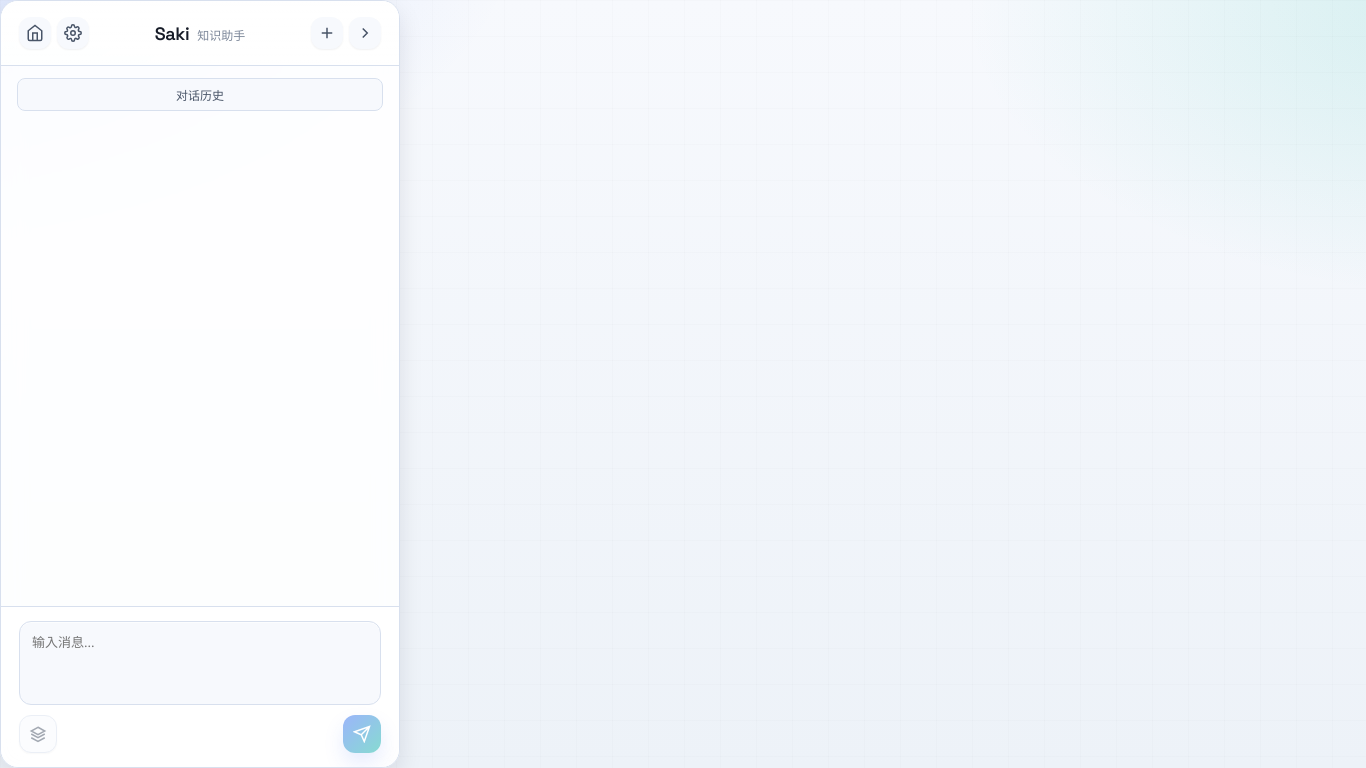
Test: ChatPanel › should enable send button when input has text
Type "Hello" into the text box with class "chat-input__textarea" at (200, 663), box [19,621,381,705]
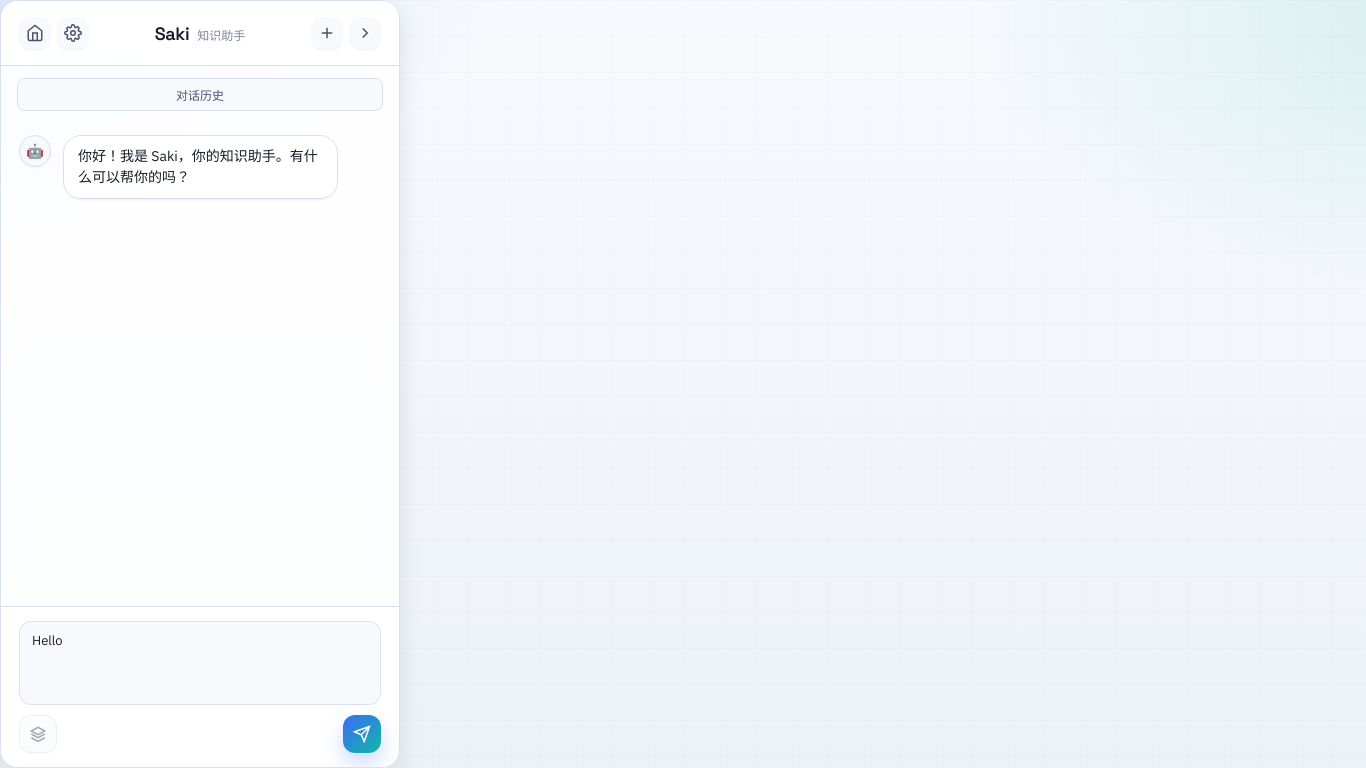
Expected: the button with class "chat-input__send" is enabled, [343,715,381,753]
